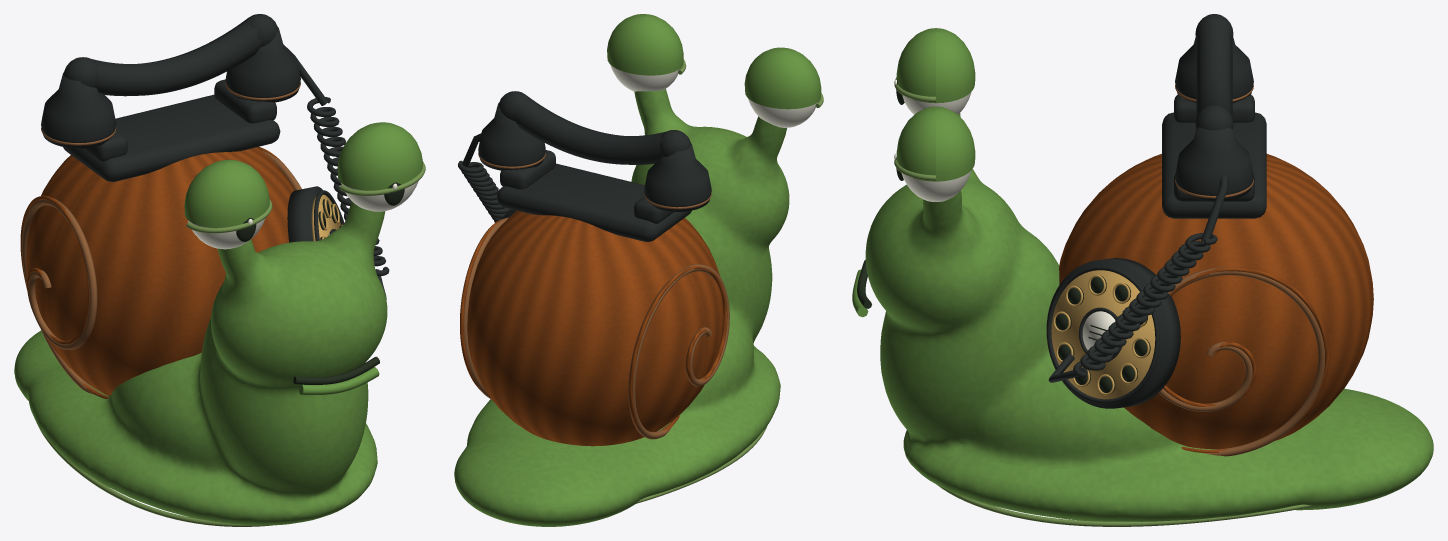
The model's file is den-den-mushi.glb.
The picture shows the model from 3 angles, left to right: view 1: azimuth 30°, elevation 25°; view 2: azimuth 150°, elevation 25°; view 3: azimuth 270°, elevation 25°; orthographic projection. The views are drawn at different scales.
Visible parts, largest first — view 1: den-den-mushi | Telephone snail · muted jade skin, den-den-mushi | Telephone snail · warm ochre shell, den-den-mushi | Telephone snail · black bakelite, den-den-mushi | Telephone snail · shell whorl crease, den-den-mushi | Telephone snail · dark olive folds, den-den-mushi | Telephone snail · ivory eye, den-den-mushi | Telephone snail · pupils and mouth, den-den-mushi | Telephone snail · dial brass; view 2: den-den-mushi | Telephone snail · muted jade skin, den-den-mushi | Telephone snail · warm ochre shell, den-den-mushi | Telephone snail · black bakelite, den-den-mushi | Telephone snail · shell whorl crease, den-den-mushi | Telephone snail · ivory eye, den-den-mushi | Telephone snail · dark olive folds; view 3: den-den-mushi | Telephone snail · muted jade skin, den-den-mushi | Telephone snail · warm ochre shell, den-den-mushi | Telephone snail · black bakelite, den-den-mushi | Telephone snail · dial brass, den-den-mushi | Telephone snail · shell whorl crease, den-den-mushi | Telephone snail · ivory eye, den-den-mushi | Telephone snail · dark olive folds, den-den-mushi | Telephone snail · pupils and mouth.
Boxes of the visible parts, left/top/right/bottom form: den-den-mushi | Telephone snail · muted jade skin: left=14, top=122, right=422, bottom=525; den-den-mushi | Telephone snail · warm ochre shell: left=20, top=147, right=294, bottom=398; den-den-mushi | Telephone snail · black bakelite: left=41, top=14, right=389, bottom=299; den-den-mushi | Telephone snail · shell whorl crease: left=22, top=82, right=301, bottom=395; den-den-mushi | Telephone snail · dark olive folds: left=39, top=162, right=425, bottom=526; den-den-mushi | Telephone snail · ivory eye: left=188, top=181, right=418, bottom=249; den-den-mushi | Telephone snail · pupils and mouth: left=236, top=182, right=404, bottom=384; den-den-mushi | Telephone snail · dial brass: left=311, top=194, right=342, bottom=241; den-den-mushi | Telephone snail · muted jade skin: left=454, top=14, right=821, bottom=526; den-den-mushi | Telephone snail · warm ochre shell: left=460, top=210, right=727, bottom=446; den-den-mushi | Telephone snail · black bakelite: left=458, top=91, right=711, bottom=241; den-den-mushi | Telephone snail · shell whorl crease: left=463, top=152, right=729, bottom=439; den-den-mushi | Telephone snail · ivory eye: left=610, top=65, right=817, bottom=127; den-den-mushi | Telephone snail · dark olive folds: left=635, top=59, right=823, bottom=503; den-den-mushi | Telephone snail · muted jade skin: left=852, top=28, right=1433, bottom=521; den-den-mushi | Telephone snail · warm ochre shell: left=1059, top=154, right=1373, bottom=452; den-den-mushi | Telephone snail · black bakelite: left=1046, top=14, right=1266, bottom=408; den-den-mushi | Telephone snail · dial brass: left=1051, top=270, right=1155, bottom=399; den-den-mushi | Telephone snail · shell whorl crease: left=1159, top=84, right=1324, bottom=456; den-den-mushi | Telephone snail · ivory eye: left=894, top=79, right=1115, bottom=354; den-den-mushi | Telephone snail · dark olive folds: left=894, top=77, right=1312, bottom=526; den-den-mushi | Telephone snail · pupils and mouth: left=857, top=79, right=1150, bottom=393.
Size of the model in its own units: 0.7278 by 0.9878 by 1.22.
Materials: 8 (2 with a texture image).
